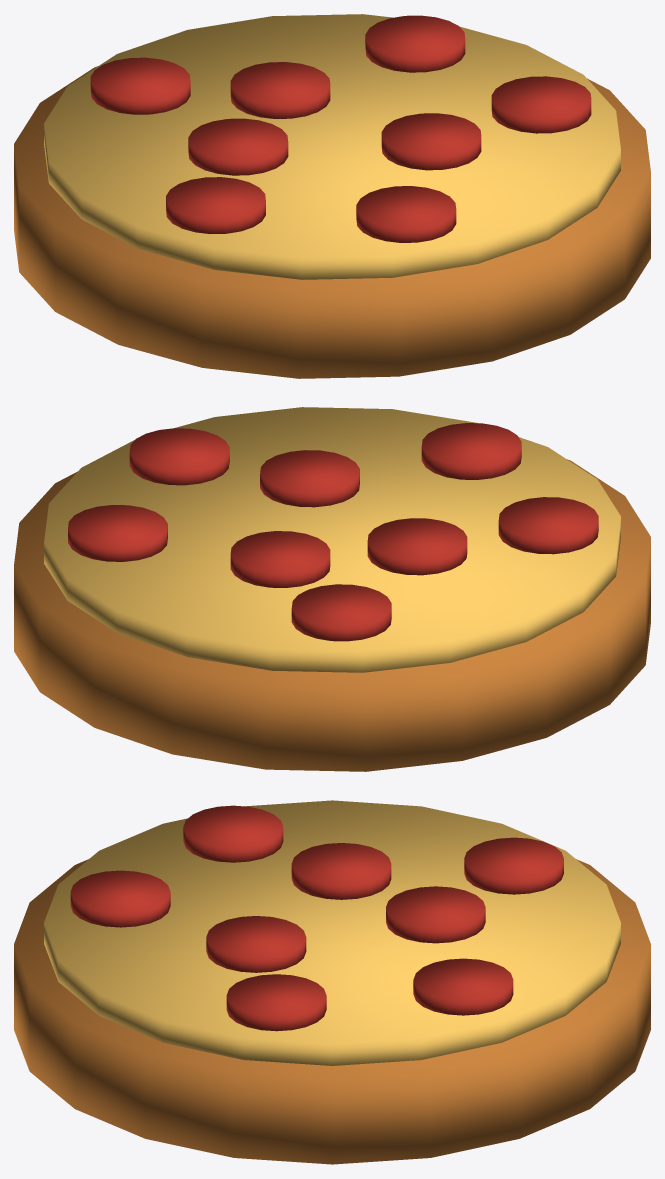
File: pizza.glb
3 views of the same model, one above another, from view 1: azimuth 30°, elevation 25°; view 2: azimuth 150°, elevation 25°; view 3: azimuth 270°, elevation 25° (orthographic).
Parts seen in each view (by area): view 1: Mozzarella, Golden crust, Pepperoni.003, Pepperoni.006, Pepperoni.002, Pepperoni.001, Pepperoni.005, Pepperoni.004, Pepperoni, Pepperoni.007; view 2: Mozzarella, Golden crust, Pepperoni.005, Pepperoni.006, Pepperoni.002, Pepperoni.004, Pepperoni.007, Pepperoni, Pepperoni.001, Pepperoni.003; view 3: Mozzarella, Golden crust, Pepperoni.004, Pepperoni.002, Pepperoni.003, Pepperoni.007, Pepperoni.001, Pepperoni.006, Pepperoni, Pepperoni.005.
Part boxes in pixels (x1,y1,x2,y2): Mozzarella: (44,14,620,279); Golden crust: (14,66,650,378); Pepperoni.003: (365,15,465,72); Pepperoni.006: (491,76,591,133); Pepperoni.002: (188,118,288,175); Pepperoni.001: (381,113,481,170); Pepperoni.005: (90,57,190,114); Pepperoni.004: (356,186,456,242); Pepperoni: (230,62,330,118); Pepperoni.007: (166,177,265,233); Mozzarella: (44,407,620,672); Golden crust: (14,459,650,771); Pepperoni.005: (291,584,391,641); Pepperoni.006: (129,428,229,485); Pepperoni.002: (367,518,467,575); Pepperoni.004: (421,423,521,479); Pepperoni.007: (498,497,598,554); Pepperoni: (230,531,330,587); Pepperoni.001: (260,450,359,507); Pepperoni.003: (68,505,167,561); Mozzarella: (44,800,620,1065); Golden crust: (14,859,650,1164); Pepperoni.004: (70,870,170,927); Pepperoni.002: (291,843,391,899); Pepperoni.003: (413,958,513,1015); Pepperoni.007: (183,805,283,862); Pepperoni.001: (206,916,306,972); Pepperoni.006: (226,974,326,1031); Pepperoni: (386,886,485,943); Pepperoni.005: (464,837,563,894).
Bounding box in the file's own units: 0.74 × 0.157 × 0.74.
